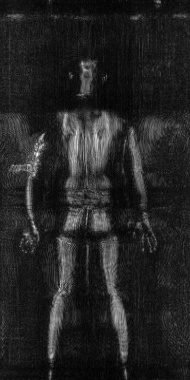gun: (11, 139, 44, 178)
